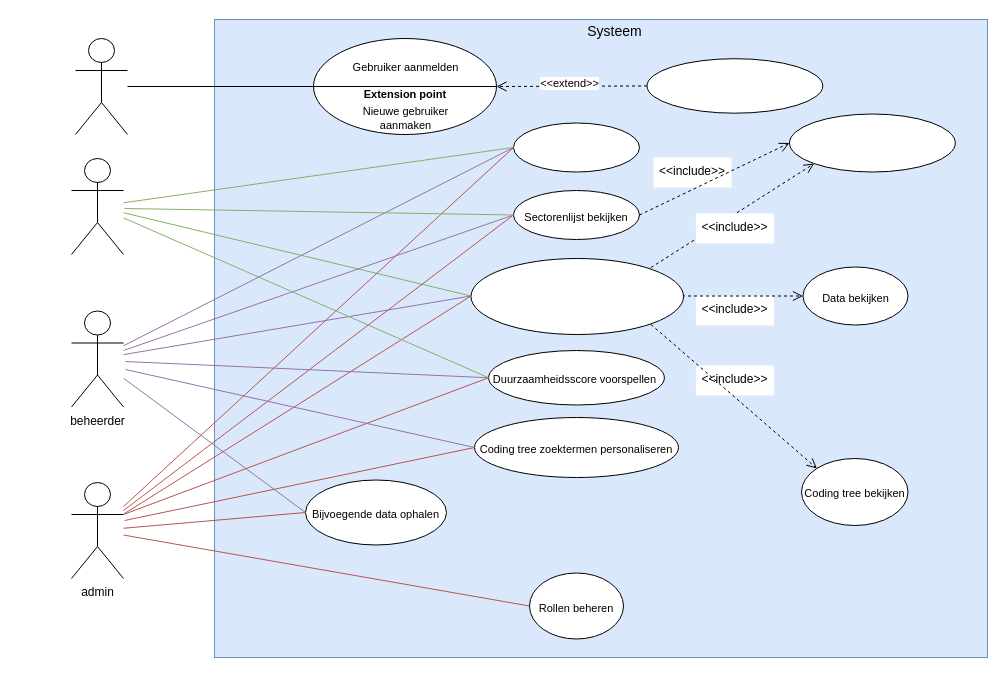
Some shapes in this 1005 by 675 pixel diagram are drawn without their labels. The shapes that lost their labels are listed below. From the top down, each one's centre as x and y in pixels, then its label:
At (x=101, y=86): "gebruiker (not logged-in)".
At (x=734, y=85): "Gebruiker registreren".
At (x=576, y=147): "Gebruiker afmelden".
At (x=871, y=142): "Duurzaamheidsscore bekijken".
At (x=97, y=206): "gekende gebruiker (logged-in)".
At (x=577, y=296): "Bedrijven bekijken".
